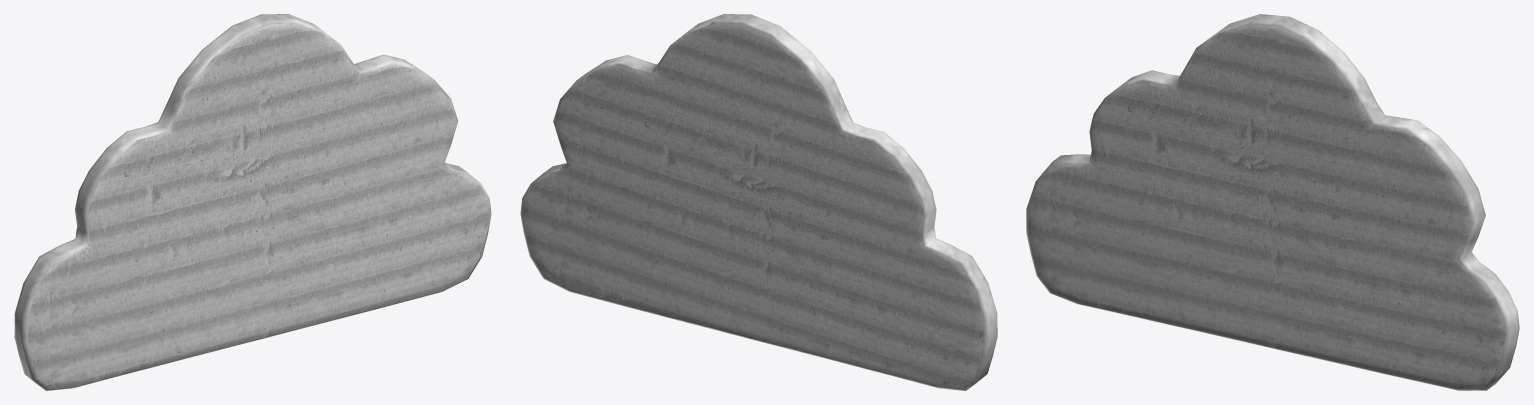
File: nuvola2.fbx
3 views of the same model, side by side, from view 1: azimuth 30°, elevation 25°; view 2: azimuth 150°, elevation 25°; view 3: azimuth 330°, elevation 25° (orthographic). The views are drawn at different scales.
Visible parts, largest first — view 1: nuvola2; view 2: nuvola2; view 3: nuvola2.
Boxes of the visible parts, x1,y1,x2,y2 form: nuvola2: (14,14,491,390); nuvola2: (520,14,997,390); nuvola2: (1026,14,1519,390).
Bounding box in the file's own units: 141 × 91.87 × 6.37.
1 material, 1 textured.
